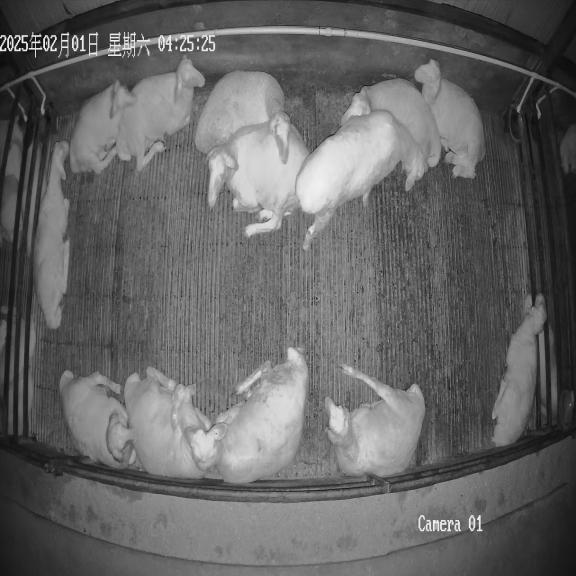lying: (185, 347, 308, 484), (324, 364, 425, 478), (208, 122, 309, 236), (115, 56, 205, 172), (124, 367, 213, 478), (341, 78, 441, 172), (194, 71, 291, 162), (414, 59, 485, 178), (491, 294, 546, 446), (59, 371, 136, 468), (34, 140, 70, 330), (70, 81, 135, 173)
stand: (295, 110, 431, 250)
